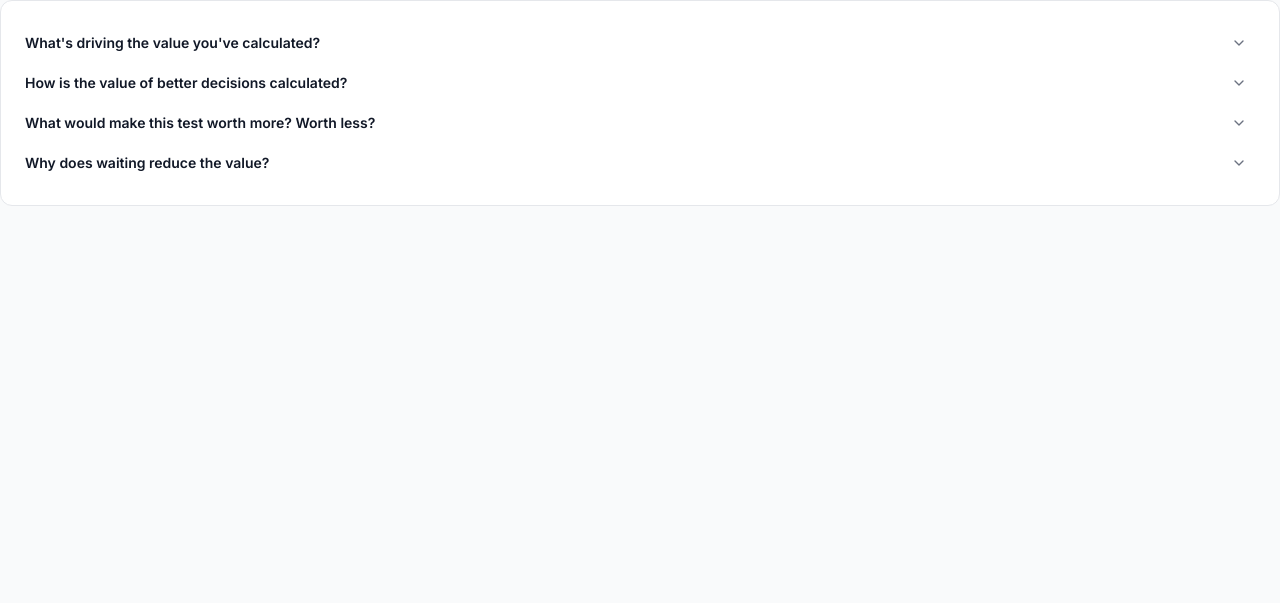
Test: FAQAccordion › Test 5: accordions are independent (opening one does not close another)
// Open first
Click the button "What's driving the value you've calculated?" at (173, 42), box [21,25,1251,61]
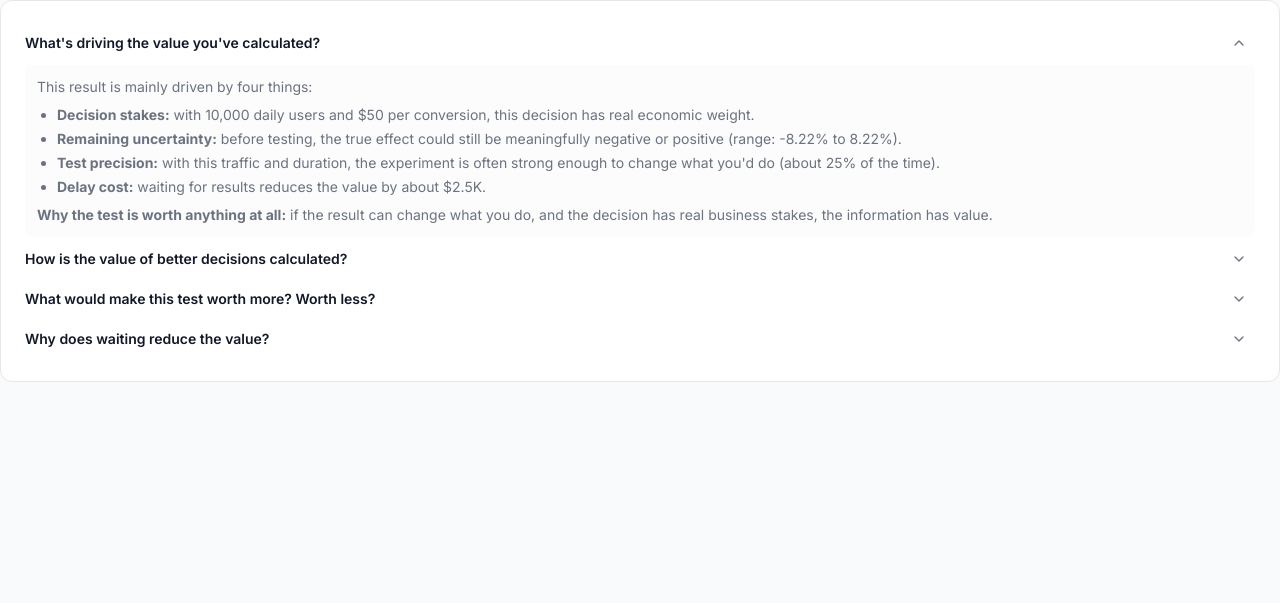
Result: the button "What's driving the value you've calculated?" is expanded at [21,25,1251,61]
// Open second
Click the button "How is the value of better decisions calculated?" at (186, 258), box [21,241,1251,277]
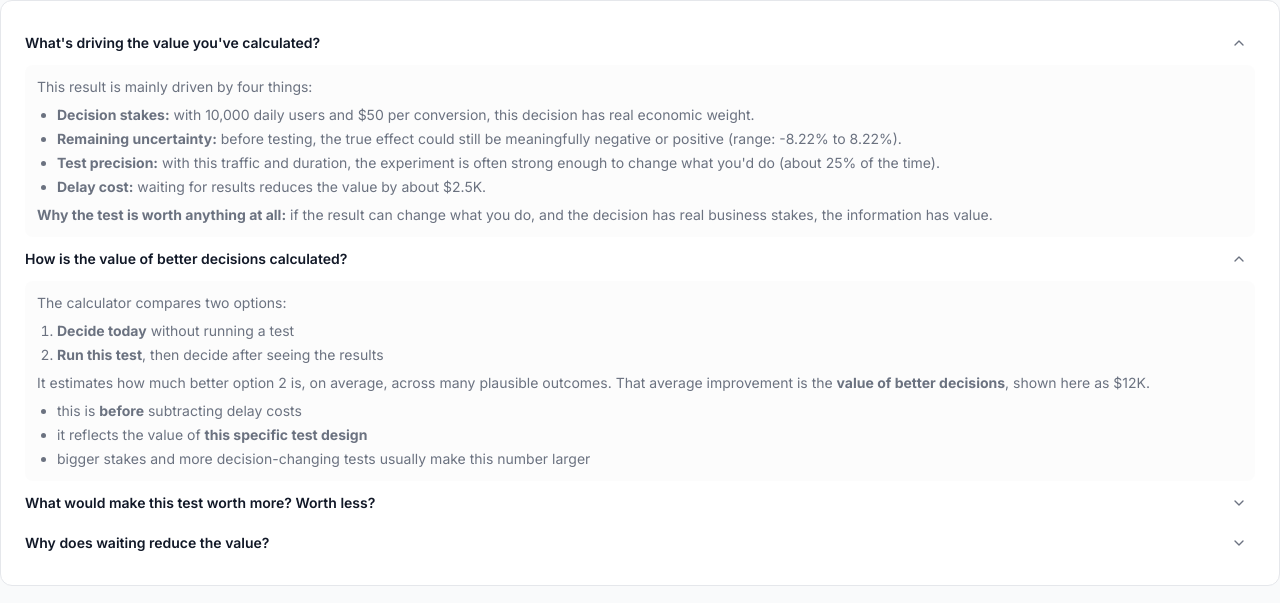
Result: the button "What's driving the value you've calculated?" is expanded at [21,25,1251,61]
Result: the button "How is the value of better decisions calculated?" is expanded at [21,241,1251,277]
